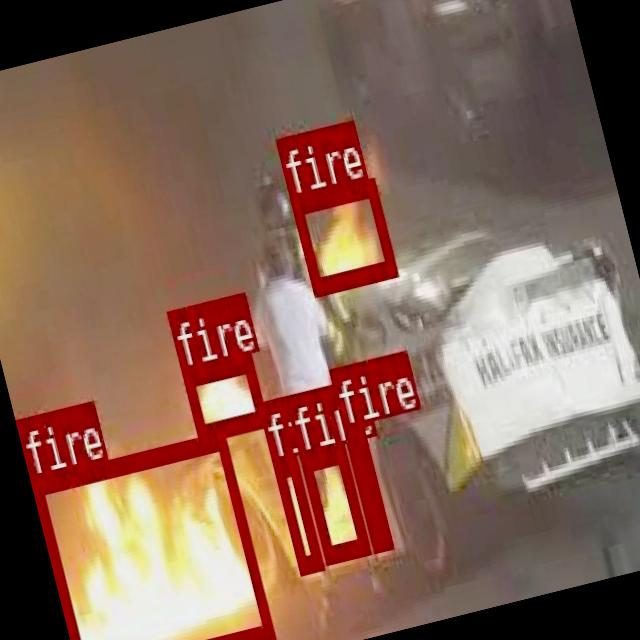fire: (29, 428, 271, 640), (288, 176, 396, 294), (296, 440, 368, 562), (179, 351, 264, 438), (340, 420, 391, 550), (270, 454, 320, 570)
